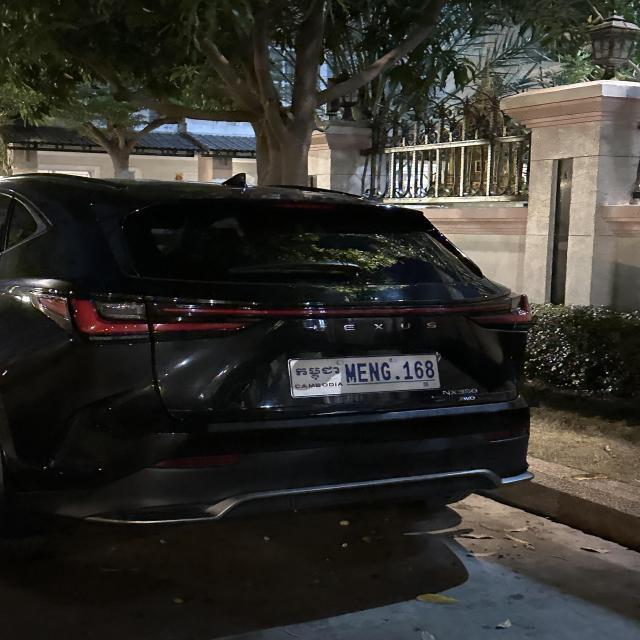Cambodia: (295, 364, 340, 382)
